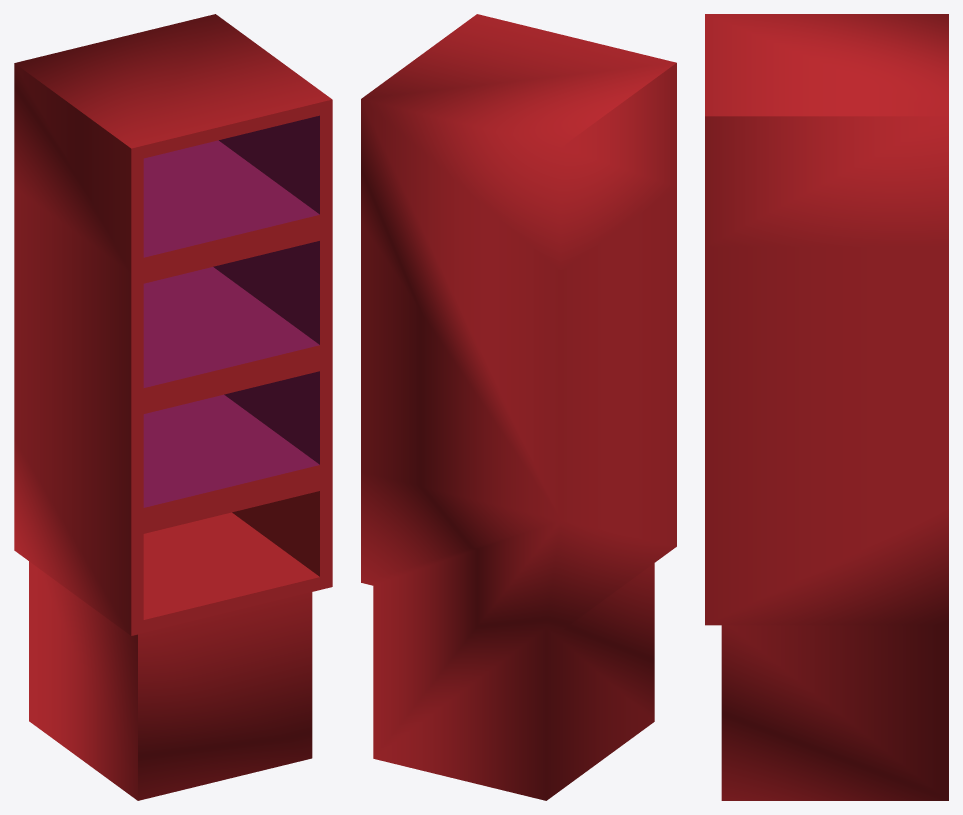
File: Shelf.fbx
3 views of the same model, side by side, from view 1: azimuth 30°, elevation 25°; view 2: azimuth 150°, elevation 25°; view 3: azimuth 270°, elevation 25° (orthographic). The views are drawn at different scales.
Visible parts, largest first — view 1: polySurface117; view 2: polySurface117; view 3: polySurface117.
Part boxes in pixels (<box>): polySurface117: <box>14,14,332,800</box>; polySurface117: <box>361,14,676,800</box>; polySurface117: <box>705,14,948,800</box>.
Size of the model in its own units: 2.43 by 7.65 by 2.45.
